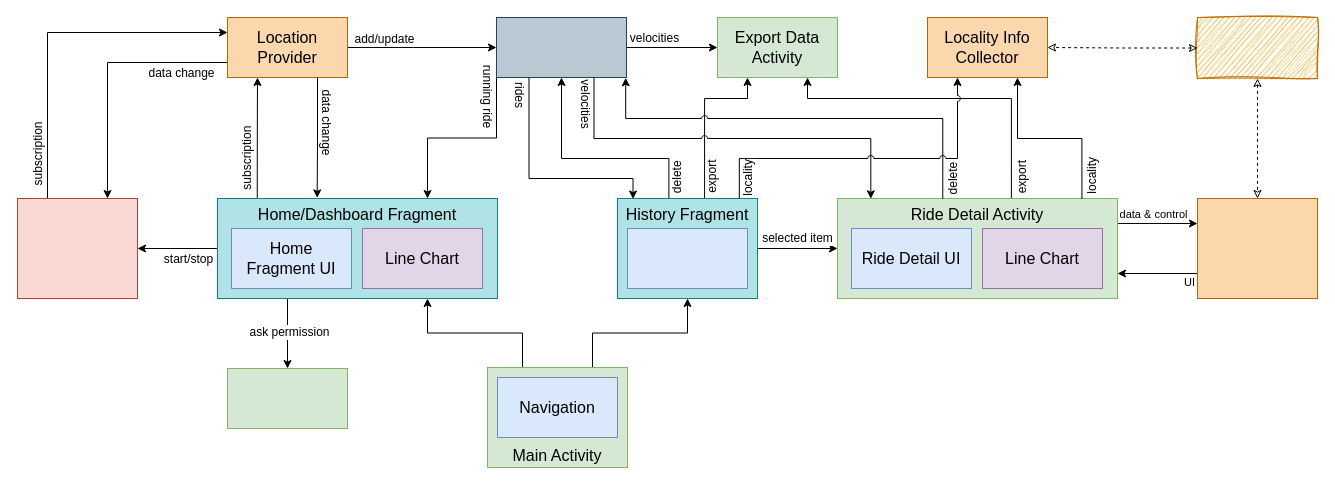
The diagram is 1335 pixels wide and 485 high, and some of its shapes have lost their labels. The shapes that lost their labels are listed below. From the top down, each one's centre as x and y in pixels, then its label:
the point at 561,47: App Database
the point at 1257,47: Google Maps API
the point at 77,248: Foreground Service
the point at 687,258: Ride Item View Holder
the point at 1257,248: Custom Map View & Google Map Handler
the point at 287,398: Permission Check Activity
